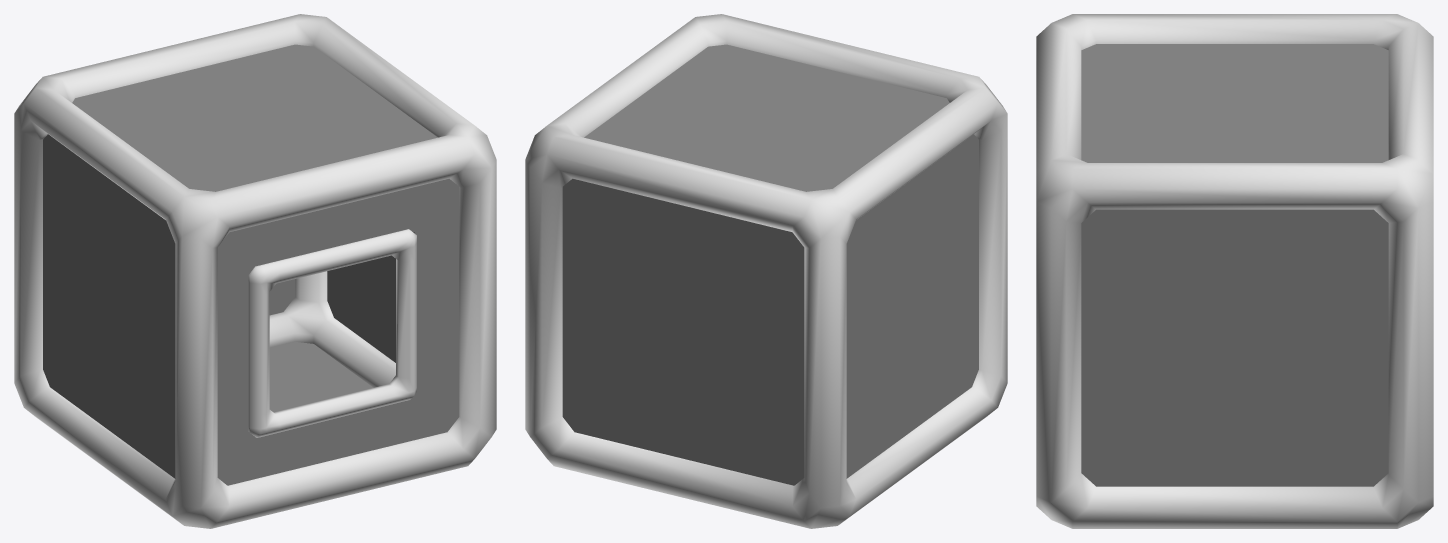
File: block_character_new.fbx
3 views of the same model, side by side, from view 1: azimuth 30°, elevation 25°; view 2: azimuth 150°, elevation 25°; view 3: azimuth 270°, elevation 25° (orthographic). The views are drawn at different scales.
Parts seen in each view (by area): view 1: block_character_new; view 2: block_character_new; view 3: block_character_new.
Part boxes in pixels (box(x1,y1,x2,y2)): block_character_new: box(14, 14, 496, 528); block_character_new: box(525, 14, 1007, 528); block_character_new: box(1036, 14, 1433, 528).
Size of the model in its own units: 200 by 200 by 200.
